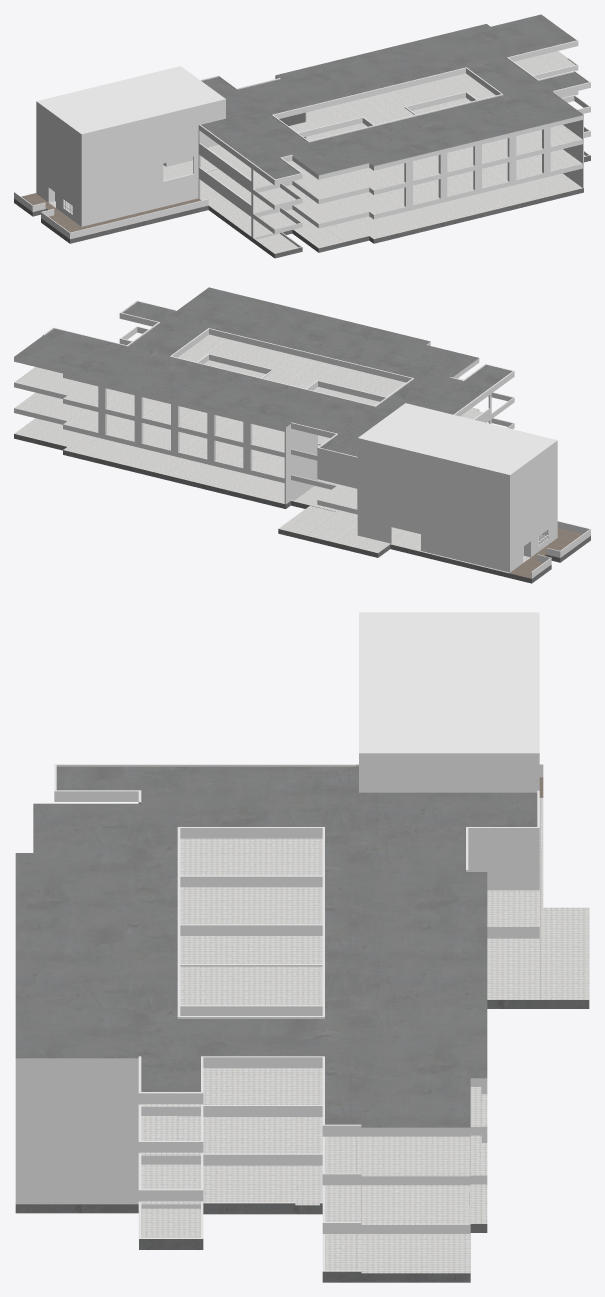
File: Labter-transformed.glb
The picture shows the model from 3 angles, top to bottom: view 1: azimuth 30°, elevation 25°; view 2: azimuth 150°, elevation 25°; view 3: azimuth 270°, elevation 25°; orthographic projection. The views are drawn at different scales.
Visible parts, largest first — view 1: big-building, lab-kalterisasi, teras; view 2: big-building, lab-kalterisasi, teras; view 3: big-building.
Part boxes in pixels (x1,y1,x2,y2): big-building: [14, 14, 590, 258]; lab-kalterisasi: [36, 174, 195, 226]; teras: [14, 193, 208, 243]; big-building: [14, 287, 590, 578]; lab-kalterisasi: [357, 514, 557, 572]; teras: [509, 528, 590, 583]; big-building: [15, 612, 589, 1282].
Size of the model in its own units: 35.49 by 6.46 by 17.32.
Materials: 6 (4 with a texture image).
